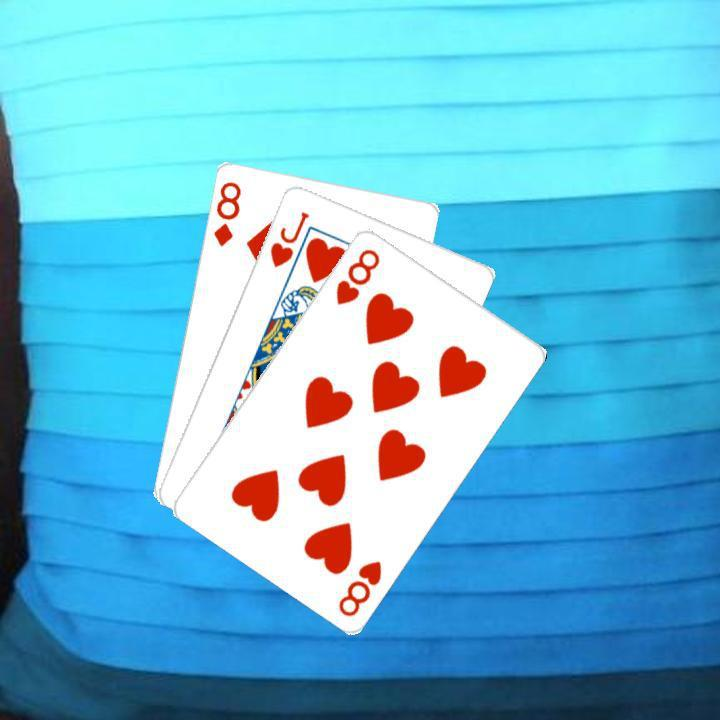8: (331, 243, 382, 307), (333, 555, 384, 618), (209, 176, 243, 249)
J: (265, 206, 311, 269)
